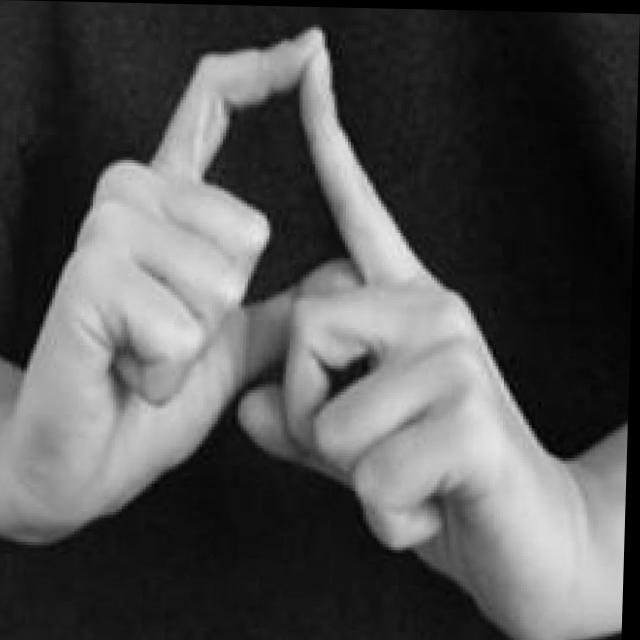D: (13, 17, 579, 640)
